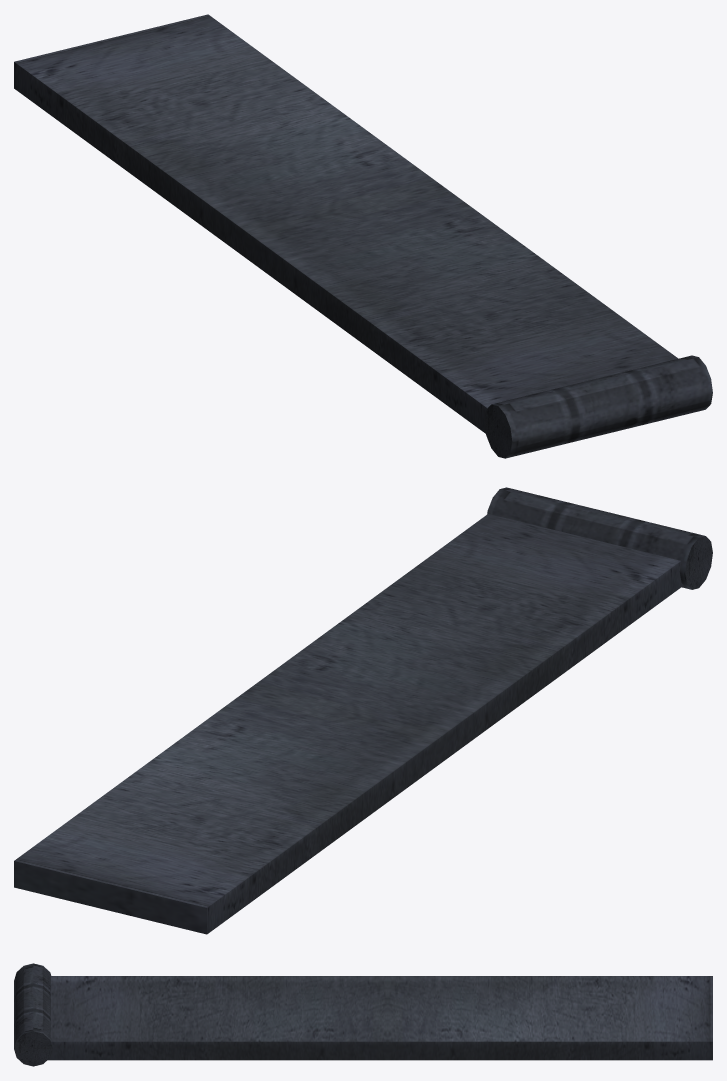
3 renders of one model, top to bottom at view 1: azimuth 30°, elevation 25°; view 2: azimuth 150°, elevation 25°; view 3: azimuth 270°, elevation 25°, orthographic. The views are drawn at different scales.
Visible parts, largest first — view 1: Object21; view 2: Object21; view 3: Object21.
Part boxes in pixels (x1,y1,x2,y2): Object21: (14,14,712,458); Object21: (14,487,712,934); Object21: (14,963,712,1066).
Bounding box in the file's own units: 2.78 × 12.1 × 0.6726.
